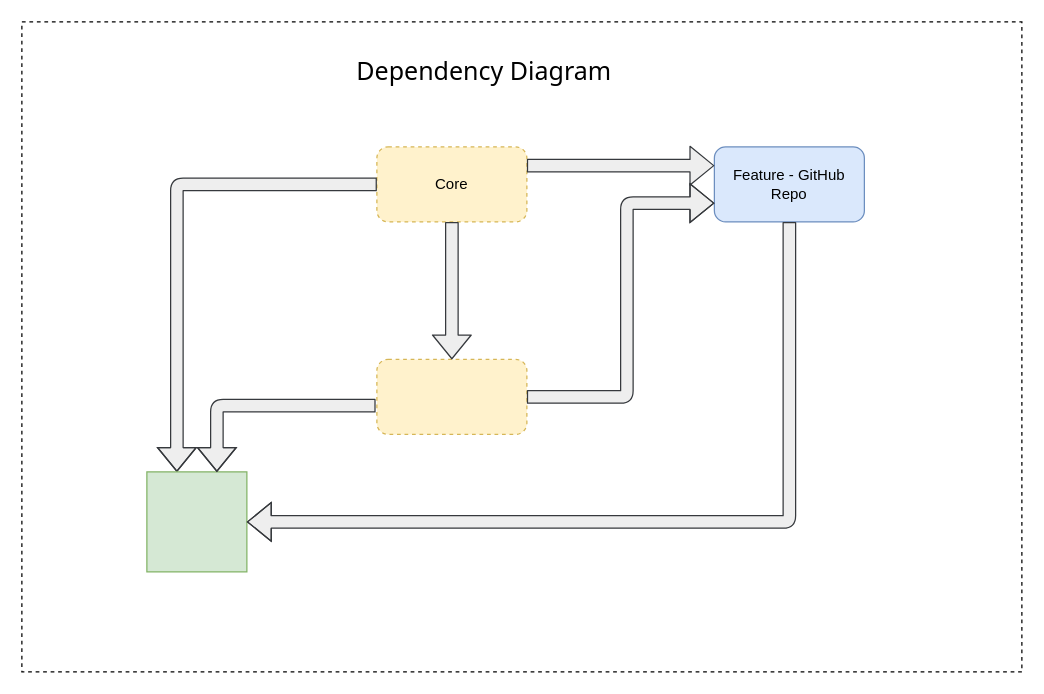
This 1044x694 diagram has some shape labels left out. Here are the shapes that lost their labels. From the top down, the centre of each, then its label:
point 451,396: Data Source
point 196,521: App
